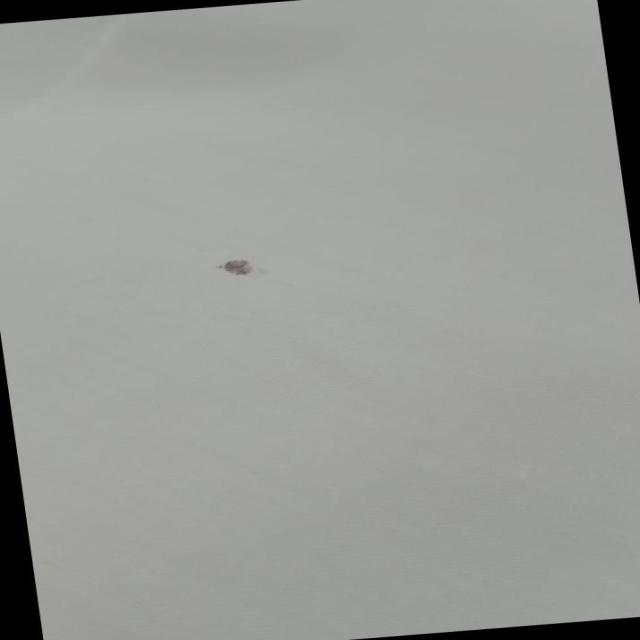stain: (202, 238, 282, 294)
